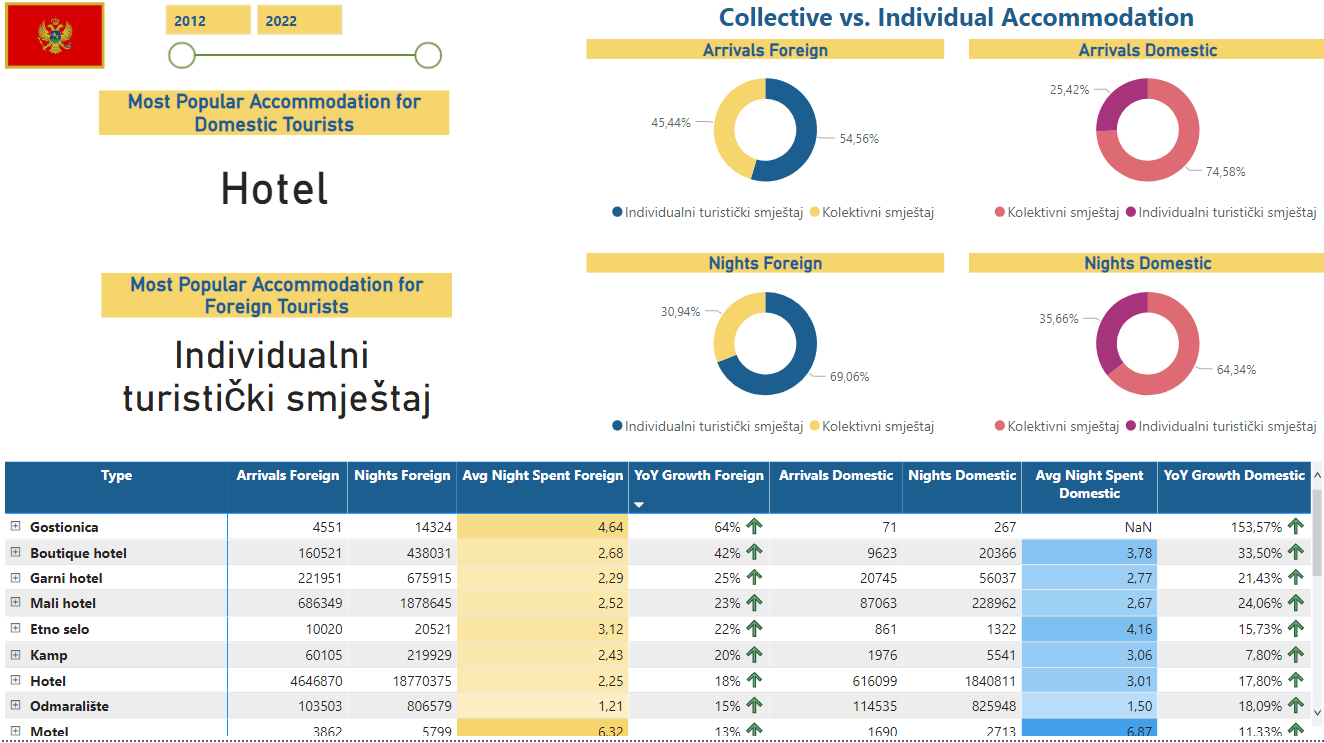

What the dashboard file says about the page in this screenshot:
{"tool":"powerbi","page":{"name":"Accommodation Analysis","canvas":[1280,720],"ordinal":2},"visuals":[{"type":"donutChart","title":"Arrivals Foreign","fields":{"Category":["accommodation_lookup.type (groups)"],"Y":["tourists_by_accommodation.Arrivals Foreign A"]},"box":[565.7,42.9,345.7,185.7],"z":1},{"type":"donutChart","title":"Nights Foreign","fields":{"Category":["accommodation_lookup.type (groups)"],"Y":["tourists_by_accommodation.Nights Foreign A"]},"box":[565.7,250,345.7,185.7],"z":5},{"type":"image","box":[0,0,105.7,80],"z":6},{"type":"donutChart","title":"Arrivals Domestic","fields":{"Category":["accommodation_lookup.type (groups)"],"Y":["tourists_by_accommodation.Arrivals Domestic A"]},"box":[934.3,42.9,345.7,185.7],"z":7},{"type":"donutChart","title":"Nights Domestic","fields":{"Category":["accommodation_lookup.type (groups)"],"Y":["Sum(tourists_by_accommodation.nights_domestic)"]},"box":[934.3,250,345.7,185.7],"z":8},{"type":"slicer","fields":{"Values":["DateTable.Date.Variation.Date Hierarchy.Year"]},"box":[147.1,0,287.1,80],"z":9},{"type":"pivotTable","fields":{"Rows":["accommodation_lookup.type","DateTable.Date.Variation.Date Hierarchy.Year"],"Values":["tourists_by_accommodation.Arrivals Foreign A","tourists_by_accommodation.Nights Foreign A","tourists_by_accommodation.Avg Night Spent Foreign A","tourists_by_accommodation.YoY Arrivals FA","tourists_by_accommodation.Arrivals Domestic A","tourists_by_accommodation.Nights Domestic A","tourists_by_accommodation.Avg Night Spent Domestic A","tourists_by_accommodation.YoY Arrivals DA"]},"box":[0,445.7,1280,274.3],"z":10},{"type":"card","title":"Most Popular Accommodation for Foreign Tourists","fields":{"Values":["Min(accommodation_lookup.type)"]},"box":[97.1,268.6,338.6,148.6],"z":11},{"type":"card","title":"Most Popular Accommodation for Domestic Tourists","fields":{"Values":["Min(accommodation_lookup.type)"]},"box":[95.7,92.9,338.6,135.7],"z":12},{"type":"textbox","box":[565.7,0,714.3,42.9],"z":13}]}

Visuals, with their boxes in screenshot pixels (x1, y1, x2, y2), scaled from the page's 1280x720 canvas onto the 1324x743 screenshot:
"Arrivals Foreign" donutChart: <bbox>585, 44, 943, 236</bbox>
"Nights Foreign" donutChart: <bbox>585, 258, 943, 450</bbox>
image: <bbox>0, 0, 109, 83</bbox>
"Arrivals Domestic" donutChart: <bbox>966, 44, 1323, 236</bbox>
"Nights Domestic" donutChart: <bbox>966, 258, 1323, 450</bbox>
slicer - DateTable.Date.Variation.Date Hierarchy.Year: <bbox>152, 0, 449, 83</bbox>
pivotTable - accommodation_lookup.type x DateTable.Date.Variation.Date Hierarchy.Year: <bbox>0, 460, 1323, 742</bbox>
"Most Popular Accommodation for Foreign Tourists" card: <bbox>100, 277, 451, 431</bbox>
"Most Popular Accommodation for Domestic Tourists" card: <bbox>99, 96, 449, 236</bbox>
textbox: <bbox>585, 0, 1323, 44</bbox>
